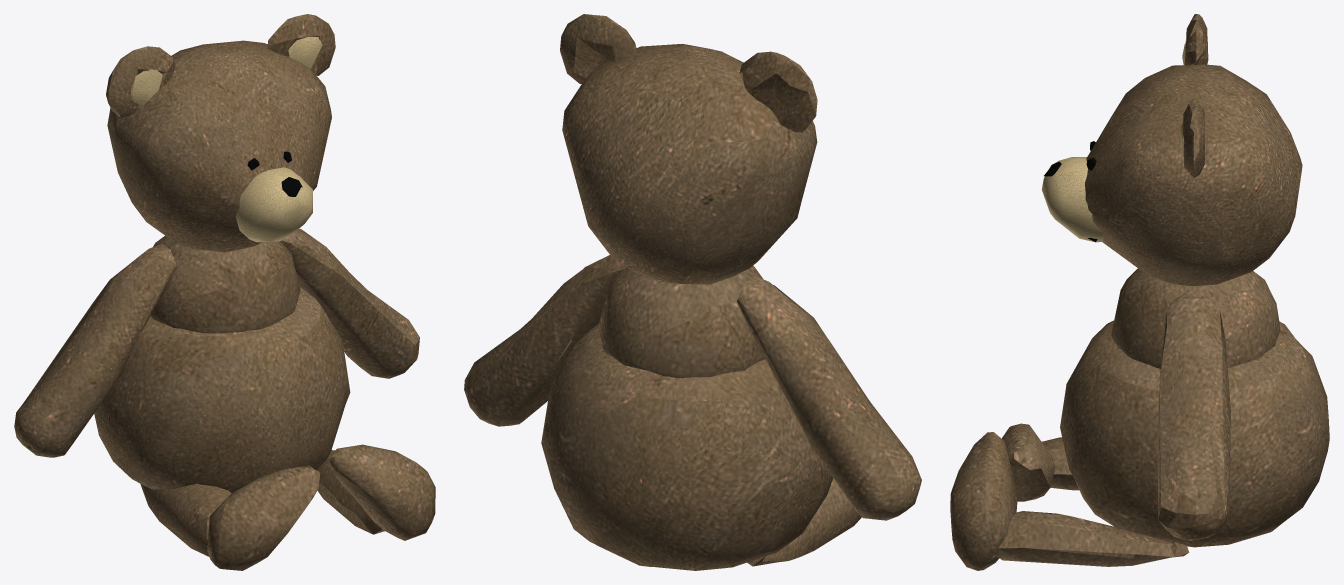
The model's file is Teddy.FBX.
3 views of the same model, side by side, from view 1: azimuth 30°, elevation 25°; view 2: azimuth 150°, elevation 25°; view 3: azimuth 270°, elevation 25° (orthographic). The views are drawn at different scales.
Visible parts, largest first — view 1: Teddy; view 2: Teddy; view 3: Teddy.
Part boxes in pixels (box(x1,y1,x2,y2)): Teddy: box(14, 14, 435, 570); Teddy: box(464, 14, 921, 570); Teddy: box(950, 14, 1329, 570).
Bounding box in the file's own units: 18.38 × 20.63 × 14.82.
